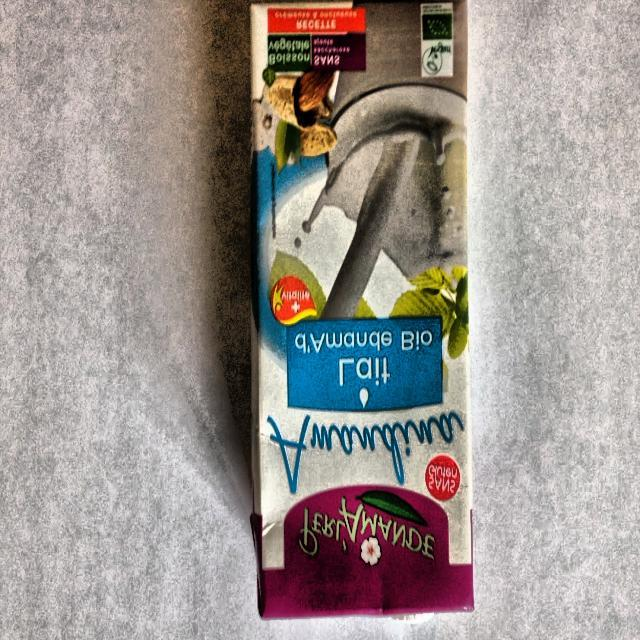cardboard: (248, 0, 474, 621)
